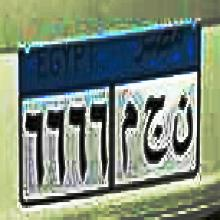6: (46, 111, 65, 181), (90, 102, 108, 174), (26, 111, 43, 183), (72, 105, 86, 177)
jeem: (143, 91, 165, 170)
meem: (120, 99, 137, 181)
noon: (172, 91, 192, 158)
